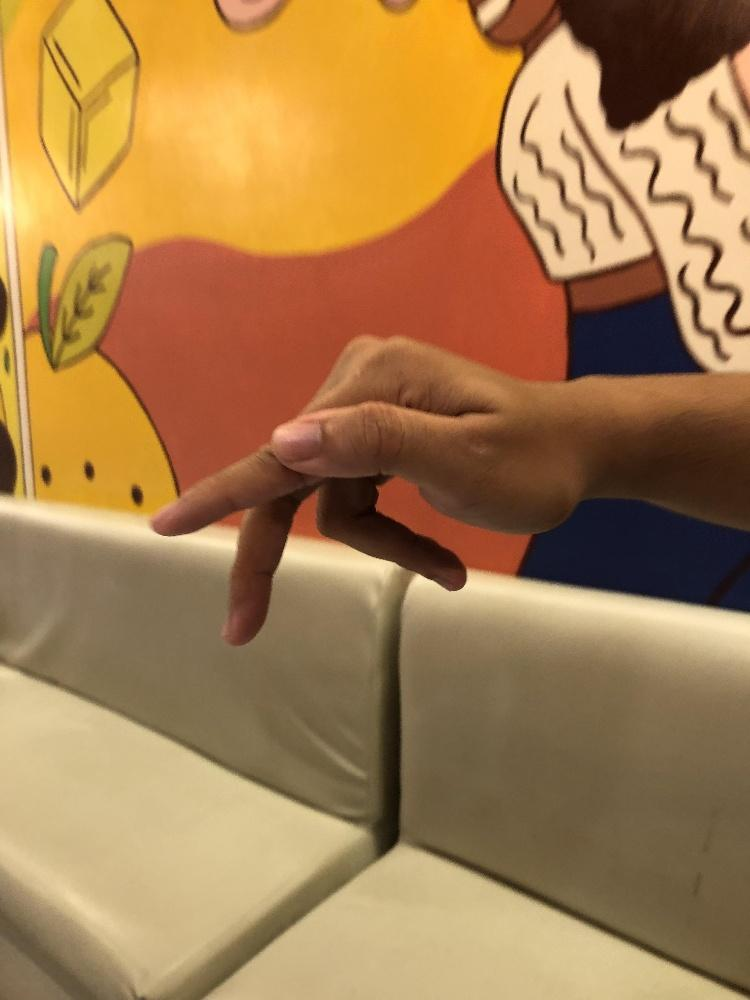p: (146, 331, 580, 647)
